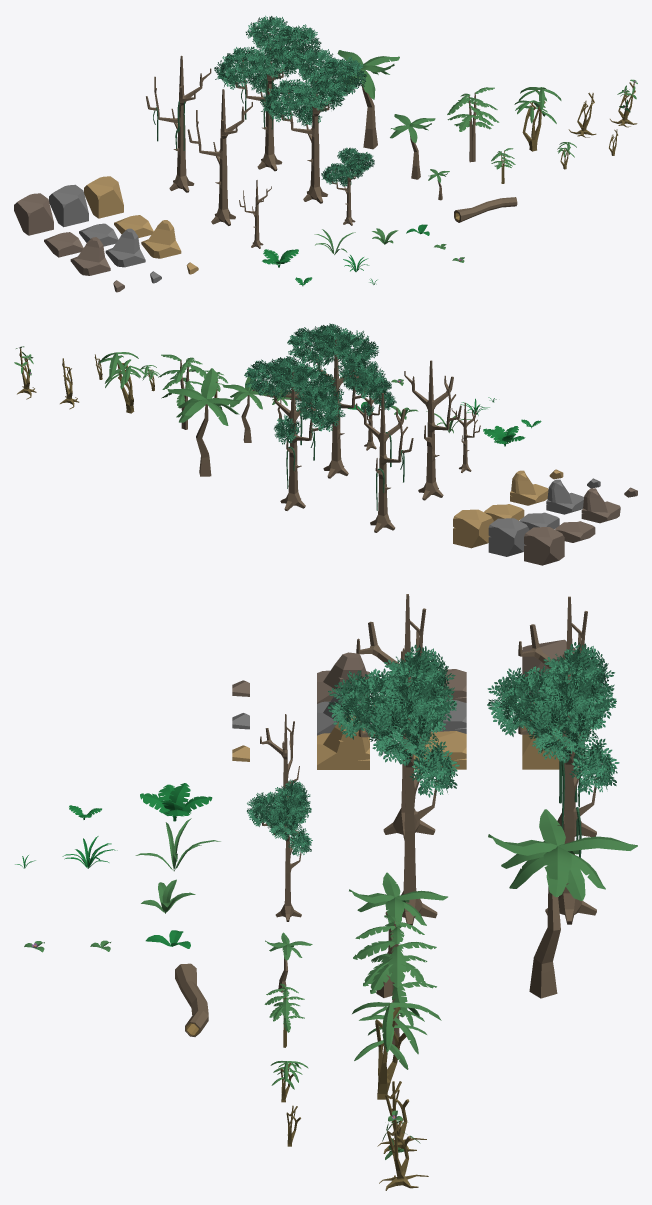
The model's file is jungle_plants.fbx.
The picture shows the model from 3 angles, top to bottom: view 1: azimuth 30°, elevation 25°; view 2: azimuth 150°, elevation 25°; view 3: azimuth 270°, elevation 25°; orthographic projection. The views are drawn at different scales.
Visible parts, largest first — view 1: Plane.004, Plane.031, Plane.032, Plane.003, Plane.069, Plane.033, Cube.025, Cube.027, Cube.026, Plane.015, Plane.039, Cube.036 (+9 smaller); view 2: Plane.031, Plane.004, Plane.033, Plane.032, Plane.003, Cube.025, Cube.026, Cube.027, Plane.039, Plane.015, Cube.036, Cube.038 (+9 smaller); view 3: Plane.031, Plane.004, Plane.033, Plane.069, Plane.015, Plane.039, Cube.038, Plane.005, Plane.003, Plane.032, Plane.071, Plane.042 (+6 smaller).
Boxes of the visible parts, box(x1,y1,x2,y2) form: Plane.004: box(260, 48, 366, 203); Plane.031: box(214, 15, 321, 171); Plane.032: box(146, 55, 211, 192); Plane.003: box(187, 89, 252, 225); Plane.069: box(321, 147, 374, 225); Plane.033: box(335, 50, 399, 149); Cube.025: box(14, 193, 53, 235); Cube.027: box(84, 176, 123, 218); Cube.026: box(49, 184, 88, 227); Plane.015: box(447, 87, 499, 162); Plane.039: box(514, 87, 561, 151); Cube.036: box(70, 237, 110, 275); Plane.031: box(244, 356, 345, 510); Plane.004: box(287, 323, 388, 478); Plane.033: box(167, 368, 241, 476); Plane.032: box(356, 393, 413, 532); Plane.003: box(404, 360, 461, 500); Cube.025: box(524, 527, 564, 565); Cube.026: box(488, 518, 529, 556); Cube.027: box(453, 509, 493, 548); Plane.039: box(99, 352, 146, 413); Plane.015: box(158, 354, 206, 429); Cube.036: box(581, 488, 620, 523); Cube.038: box(510, 470, 548, 505); Plane.031: box(487, 642, 619, 924); Plane.004: box(327, 644, 459, 927); Plane.033: box(488, 809, 637, 998); Plane.069: box(246, 779, 312, 921); Plane.015: box(353, 915, 436, 1045); Plane.039: box(352, 1002, 441, 1099); Cube.038: box(317, 715, 369, 769); Plane.005: box(349, 872, 447, 997); Plane.003: box(356, 594, 435, 840); Plane.032: box(518, 596, 596, 836); Plane.071: box(175, 963, 208, 1036); Plane.042: box(140, 783, 212, 821).
Size of the model in its own units: 2515 by 622 by 1306.
12 materials, 1 textured.
